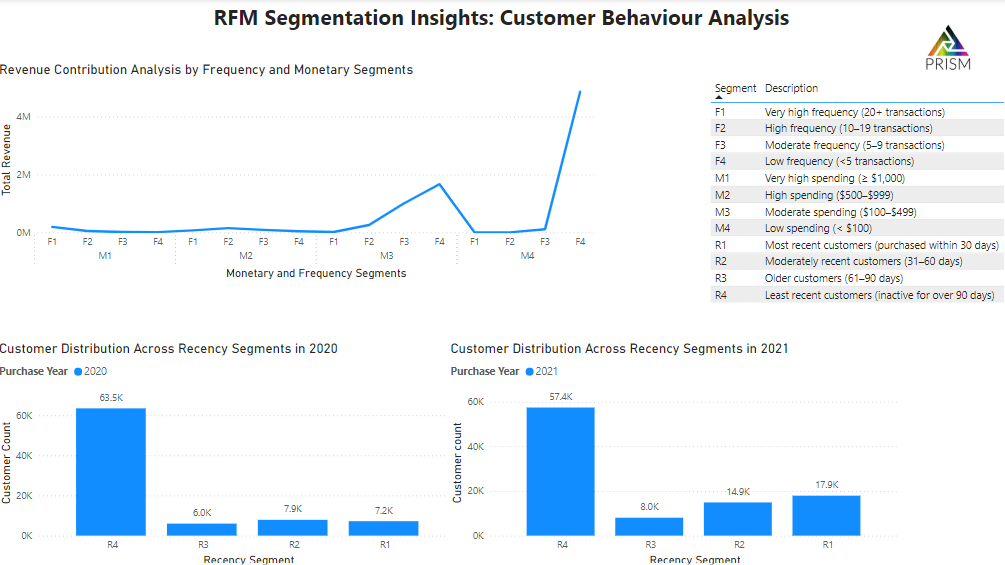

The page's visual inventory and layout, read from the dashboard file:
{"tool":"powerbi","page":{"name":"RFM","canvas":[1280,720],"ordinal":0},"visuals":[{"type":"textbox","box":[270.3,0,819.2,54.9],"z":0},{"type":"image","box":[1119.7,0,160.5,123.5],"z":1000},{"type":"tableEx","fields":{"Values":["Description of the Segments.Segment","Description of the Segments.Description "]},"box":[895.8,98.3,383.6,304.3],"z":2000},{"type":"lineChart","title":"Revenue Contribution Analysis by Frequency and Monetary Segments","fields":{"Category":["RFM 2.monetary_segment","RFM.frequency_segment"],"Y":["Sum(RFM 2.total_revenue)"]},"box":[0,79.4,759.7,279.7],"z":3000},{"type":"clusteredColumnChart","title":"Customer Distribution Across Recency Segments in 2020","fields":{"Y":["Sum(RFM 2020.customer_count)"],"Category":["RFM 2020.recency_segment"],"Series":["RFM 2020.purchase_year"]},"box":[0,430.9,587.7,289.1],"z":4000},{"type":"clusteredColumnChart","title":"Customer Distribution Across Recency Segments in 2021","fields":{"Category":["Recency 2021.recency_segment"],"Y":["Sum(Recency 2021.customer_count)"],"Series":["Recency 2021.purchase_year"]},"box":[568.8,430.9,574.5,289.1],"z":5000}]}

Visuals, with their boxes in screenshot pixels (x1, y1, x2, y2), scaled from the page's 1280x720 canvas onto the 1005x565 screenshot:
textbox: BBox(212, 0, 855, 43)
image: BBox(879, 0, 1004, 97)
tableEx - Description of the Segments.Segment x Description of the Segments.Description : BBox(703, 77, 1004, 316)
"Revenue Contribution Analysis by Frequency and Monetary Segments" lineChart: BBox(0, 62, 596, 282)
"Customer Distribution Across Recency Segments in 2020" clusteredColumnChart: BBox(0, 338, 461, 564)
"Customer Distribution Across Recency Segments in 2021" clusteredColumnChart: BBox(447, 338, 898, 564)
